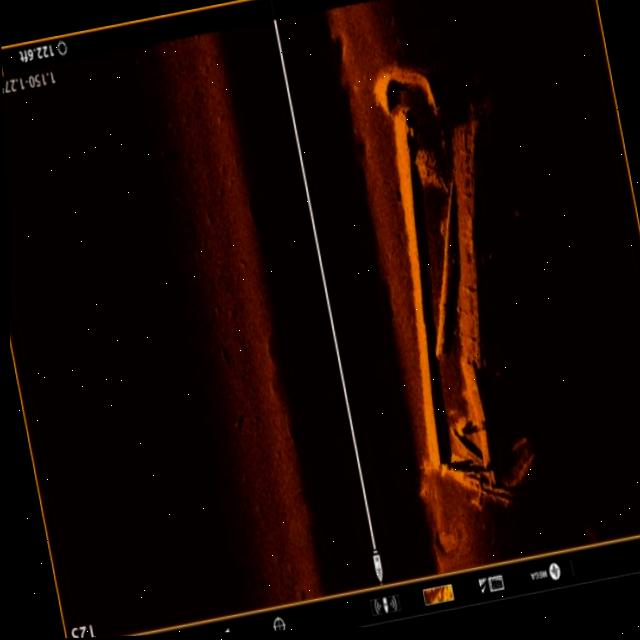shipwreck: (360, 56, 548, 532)
